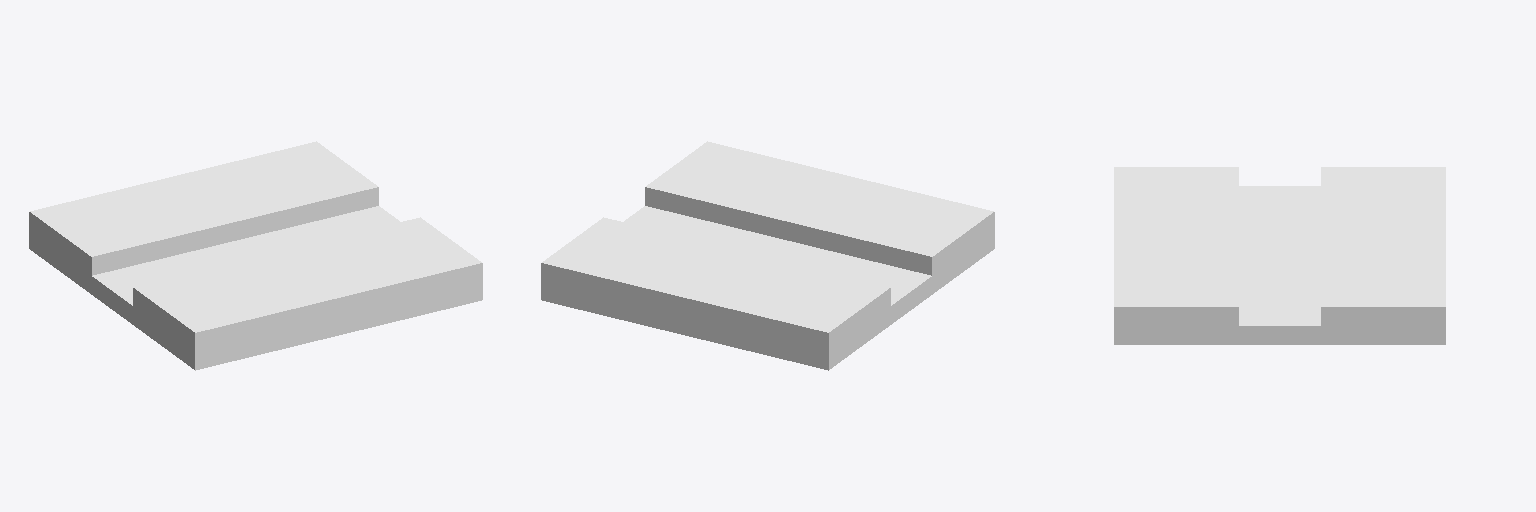
File: River_2.obj
3 renders of one model, left to right at view 1: azimuth 30°, elevation 25°; view 2: azimuth 150°, elevation 25°; view 3: azimuth 270°, elevation 25°, orthographic.
Visible parts, largest first — view 1: object 1; view 2: object 1; view 3: object 1.
Boxes of the visible parts, <box> form: object 1: <box>29,141,482,370</box>; object 1: <box>541,141,994,370</box>; object 1: <box>1114,167,1445,344</box>.
Bounding box in the file's own units: 1.6 × 0.2 × 1.6.